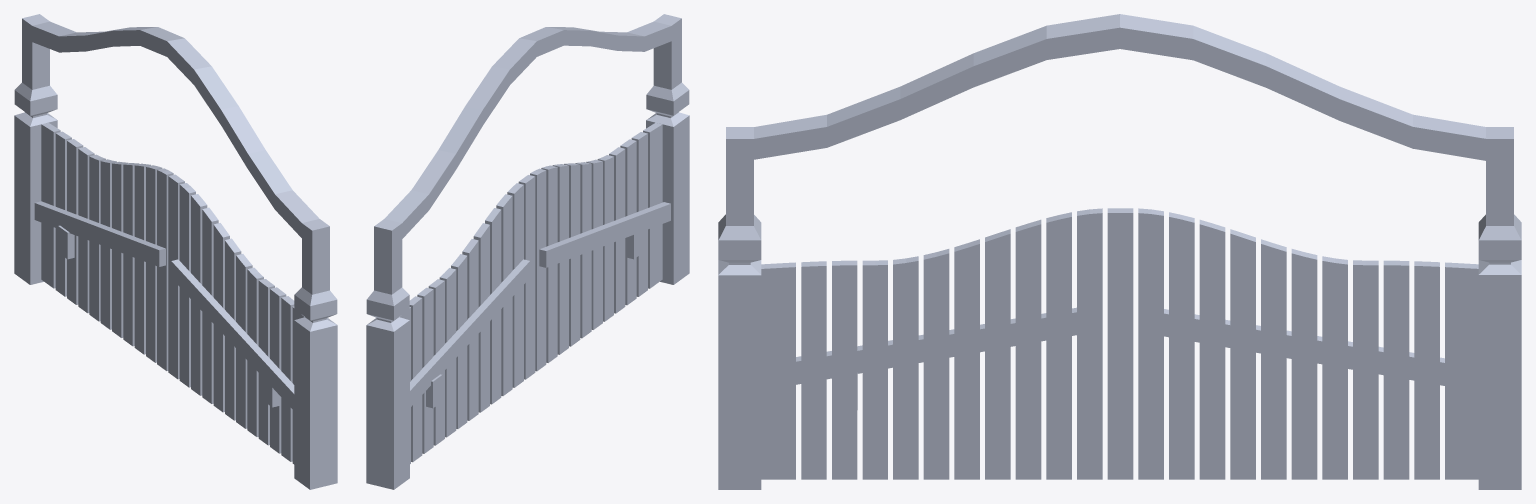
File: IsometricTile_Light_Door.fbx
3 renders of one model, left to right at view 1: azimuth 30°, elevation 25°; view 2: azimuth 150°, elevation 25°; view 3: azimuth 270°, elevation 25°, orthographic. The views are drawn at different scales.
Visible parts, largest first — view 1: Door_Frame, Door_Right, Door_Left; view 2: Door_Frame, Door_Right, Door_Left; view 3: Door_Right, Door_Left, Door_Frame.
Boxes of the visible parts, x1,y1,x2,y2 form: Door_Frame: [14, 14, 337, 489]; Door_Right: [168, 174, 304, 464]; Door_Left: [34, 122, 173, 370]; Door_Frame: [366, 14, 689, 489]; Door_Right: [518, 122, 670, 379]; Door_Left: [399, 183, 529, 463]; Door_Right: [761, 208, 1133, 479]; Door_Left: [1138, 208, 1478, 479]; Door_Frame: [718, 14, 1521, 489].
Size of the model in its own units: 0.1069 by 1.98 by 1.25.
